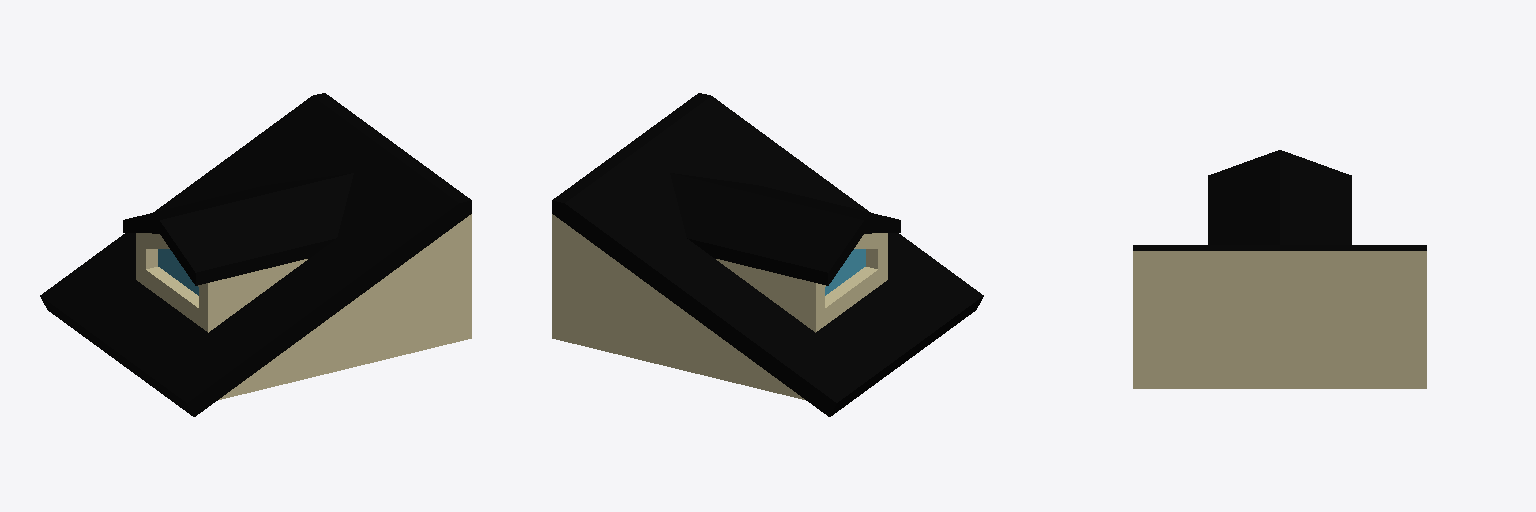
The picture shows the model from 3 angles: view 1: azimuth 30°, elevation 25°; view 2: azimuth 150°, elevation 25°; view 3: azimuth 270°, elevation 25°; orthographic projection.
Parts seen in each view (by area): view 1: G-__556122_G-__556122_Roof, G-__556122_G-__556122_Brick, G-__556122_G-__556122_Glass; view 2: G-__556122_G-__556122_Roof, G-__556122_G-__556122_Brick, G-__556122_G-__556122_Glass; view 3: G-__556122_G-__556122_Brick, G-__556122_G-__556122_Roof.
Boxes of the visible parts, box(x1,y1,x2,y2) form: G-__556122_G-__556122_Roof: box(40, 93, 471, 416); G-__556122_G-__556122_Brick: box(136, 214, 471, 399); G-__556122_G-__556122_Glass: box(158, 249, 198, 295); G-__556122_G-__556122_Roof: box(552, 93, 983, 416); G-__556122_G-__556122_Brick: box(552, 214, 887, 399); G-__556122_G-__556122_Glass: box(825, 249, 865, 295); G-__556122_G-__556122_Brick: box(1133, 251, 1426, 388); G-__556122_G-__556122_Roof: box(1133, 150, 1426, 250).
Bounding box in the file's own units: 1.12 × 0.5612 × 1.